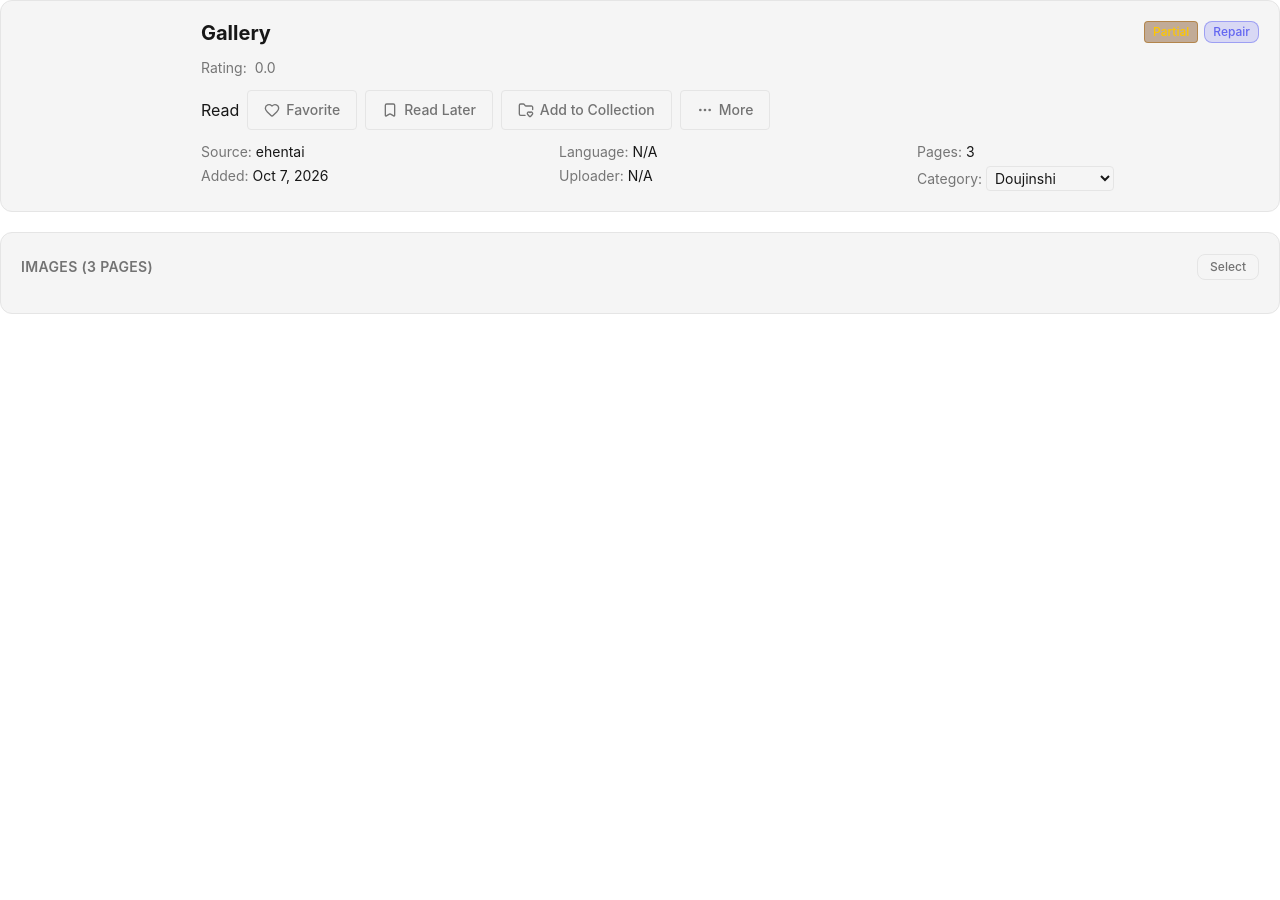
gallery detail page header actions › keeps low-use actions out of the header until the More sheet is opened for a member
This screenshot has width=1280, height=900.
Expected: the text "Share" is not shown
Expected: the text "Manage access" is not shown
Click the button with aria-label "More actions": (725, 110) [680,90,770,130]
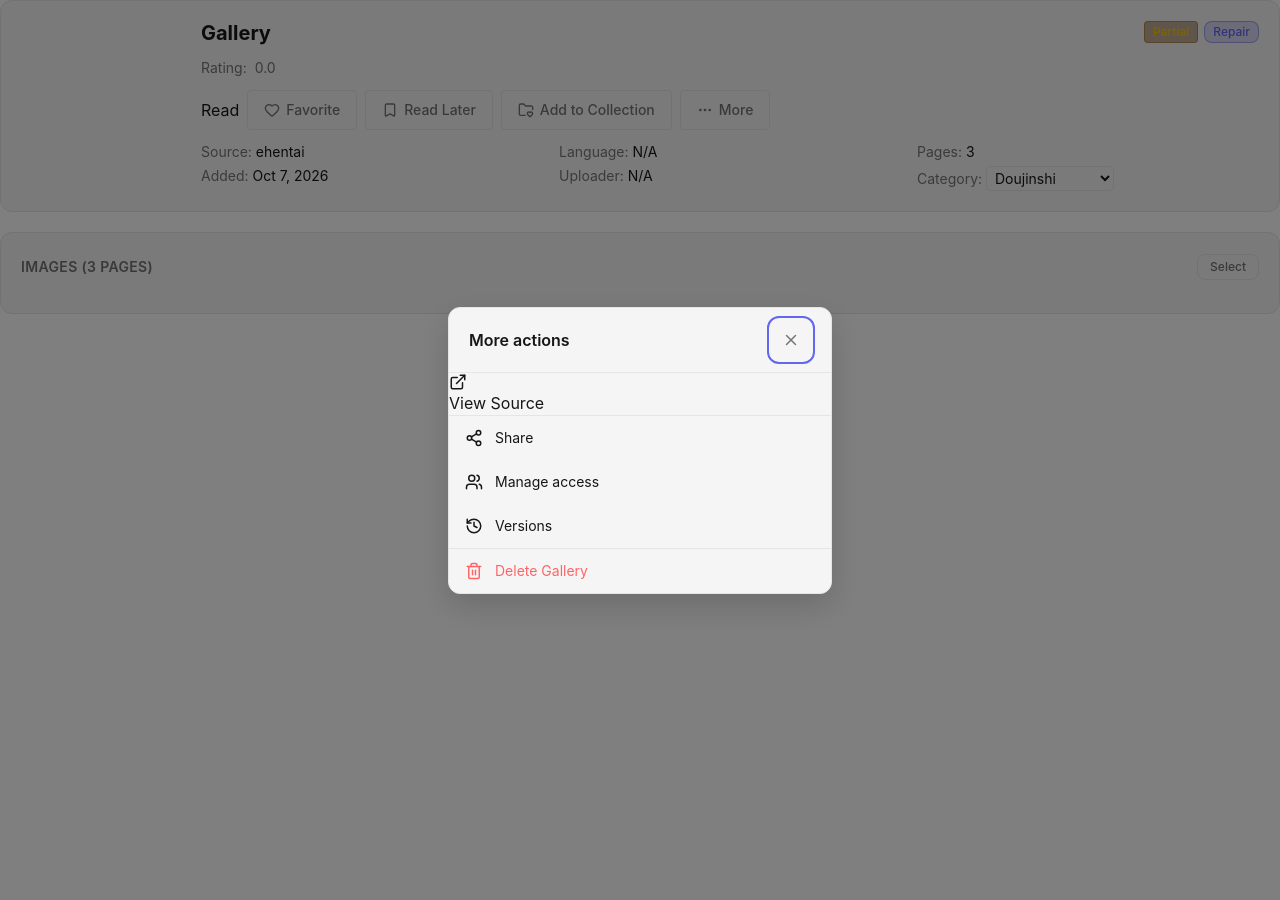
Result: the text "Share" is shown at [495,428,533,446]
Result: the text "Manage access" is shown at [495,472,599,490]
Result: the text "Versions" is shown at [495,516,552,534]
